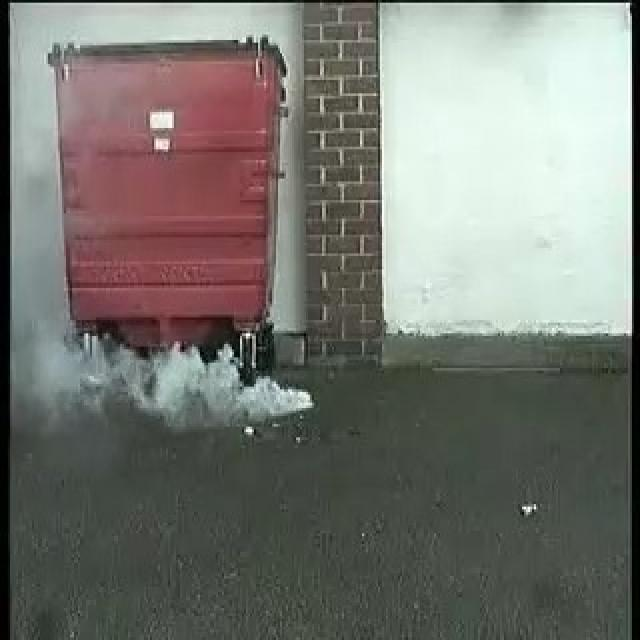smoke: (42, 342, 306, 424)
